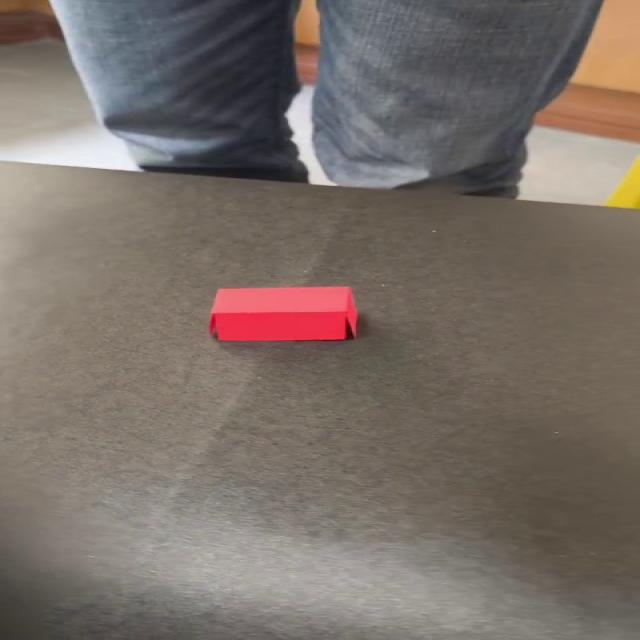red block: (206, 285, 358, 342)
